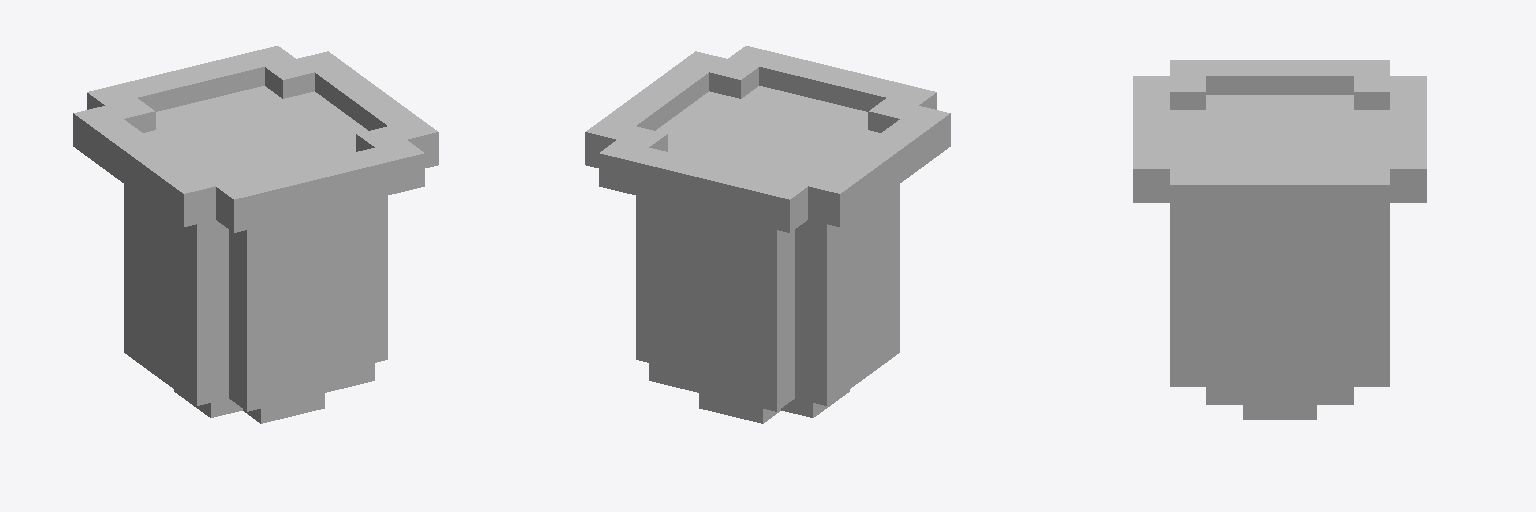
The model's file is mcl_tea_cup_birch.obj.
The picture shows the model from 3 angles: view 1: azimuth 30°, elevation 25°; view 2: azimuth 150°, elevation 25°; view 3: azimuth 270°, elevation 25°; orthographic projection.
Visible parts, largest first — view 1: Cube_Cube.003, Cube.001_Cube.001; view 2: Cube_Cube.003, Cube.001_Cube.001; view 3: Cube_Cube.003, Cube.001_Cube.001.
Boxes of the visible parts, <box> form: Cube_Cube.003: <box>73,46,438,423</box>; Cube.001_Cube.001: <box>143,86,367,178</box>; Cube_Cube.003: <box>585,46,950,423</box>; Cube.001_Cube.001: <box>656,86,880,178</box>; Cube_Cube.003: <box>1133,60,1426,419</box>; Cube.001_Cube.001: <box>1170,95,1389,168</box>.
Bounding box in the file's own units: 0.5 × 0.5 × 0.5.